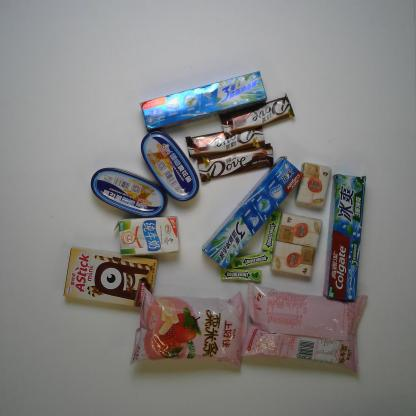Canned Food: (140, 130, 202, 205), (88, 164, 169, 220)
Chocolate: (196, 139, 276, 184), (216, 94, 298, 137), (183, 123, 267, 160)
Dessert: (61, 244, 160, 314)
Gum: (216, 265, 265, 285), (227, 250, 273, 270), (262, 208, 282, 251)
Milk: (112, 214, 183, 260)
Personal Hygiene: (199, 155, 303, 271), (137, 69, 269, 132), (322, 172, 369, 302)
Puffed Food: (240, 278, 368, 374), (127, 285, 249, 368)
Tissue: (294, 160, 333, 211), (272, 235, 316, 280), (277, 211, 324, 249)
